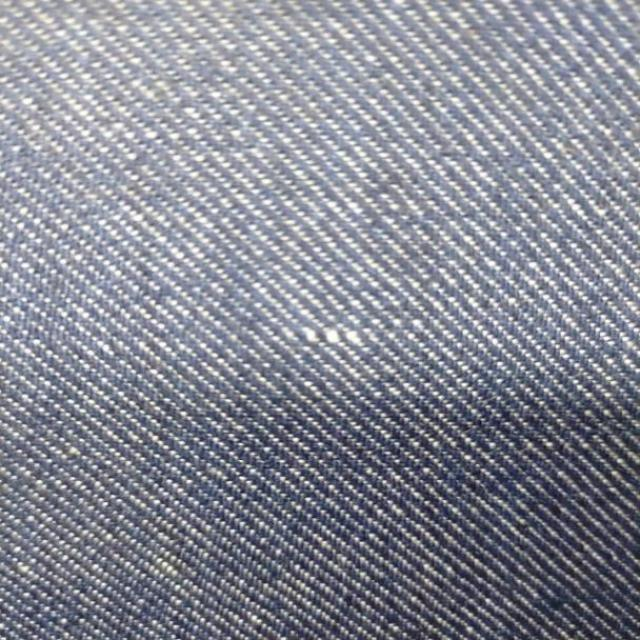Knot: (301, 327, 362, 346)
